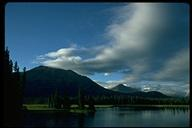cloud: (60, 9, 186, 65)
mountain: (7, 63, 187, 112)
sky: (20, 9, 180, 55)
water: (9, 105, 189, 126)
